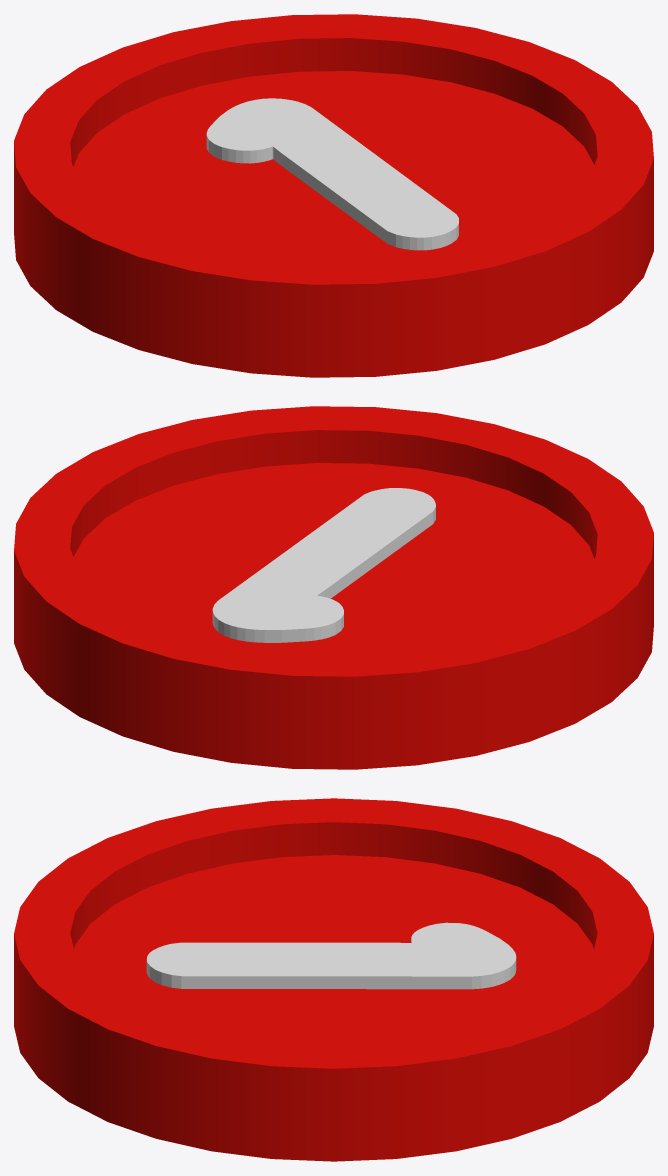
The model's file is TokenPlayer1.fbx.
3 renders of one model, top to bottom at view 1: azimuth 30°, elevation 25°; view 2: azimuth 150°, elevation 25°; view 3: azimuth 270°, elevation 25°, orthographic.
Visible parts, largest first — view 1: Cylinder.001, Text.001; view 2: Cylinder.001, Text.001; view 3: Cylinder.001, Text.001.
Boxes of the visible parts, left/top/right/bottom form: Cylinder.001: left=14, top=14, right=653, bottom=377; Text.001: left=206, top=98, right=458, bottom=250; Cylinder.001: left=14, top=406, right=653, bottom=769; Text.001: left=212, top=488, right=435, bottom=642; Cylinder.001: left=14, top=798, right=653, bottom=1161; Text.001: left=146, top=922, right=516, bottom=989.
Size of the model in its own units: 200 by 32 by 200.
